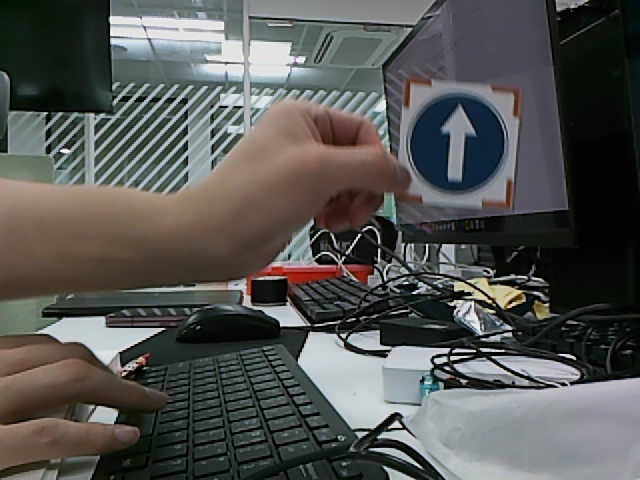go: (408, 94, 508, 195)
